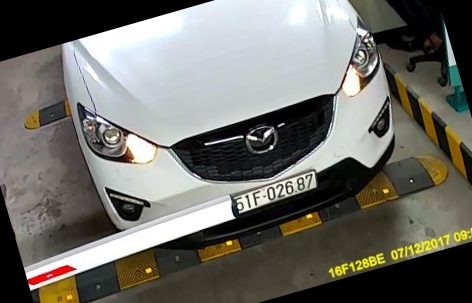plate: (231, 168, 321, 220)
